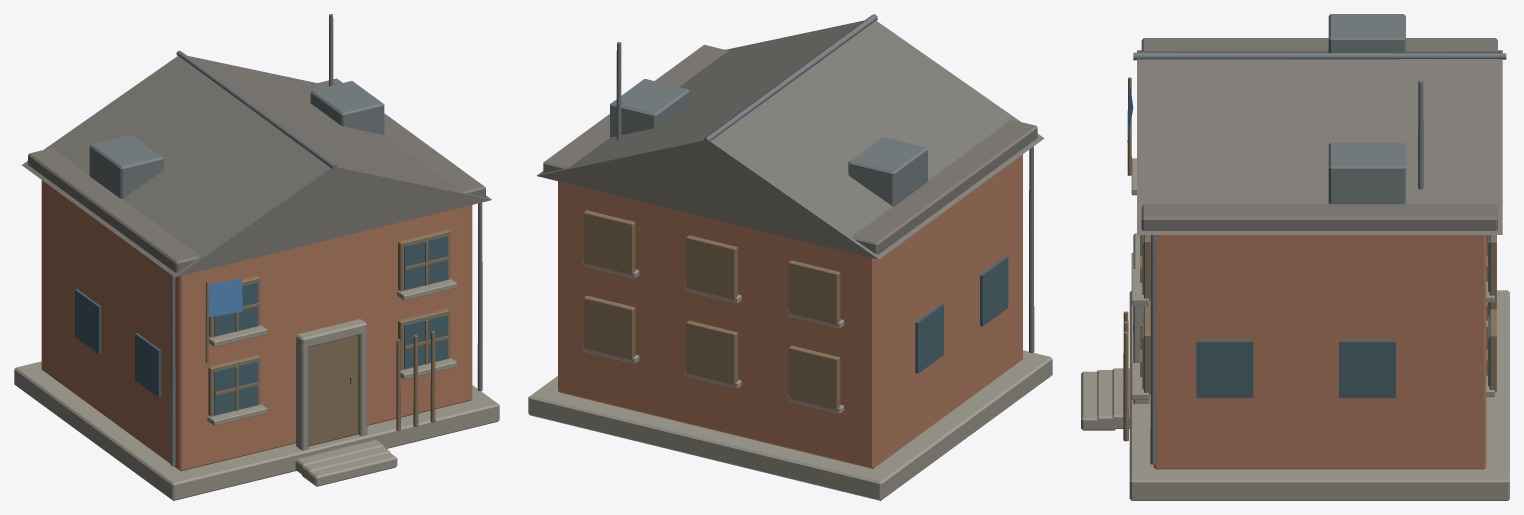
The model's file is bld_caserne_a06.glb.
The picture shows the model from 3 angles, left to right: view 1: azimuth 30°, elevation 25°; view 2: azimuth 150°, elevation 25°; view 3: azimuth 270°, elevation 25°; orthographic projection. The views are drawn at different scales.
Visible parts, largest first — view 1: bld_caserne_a06; view 2: bld_caserne_a06; view 3: bld_caserne_a06.
Part boxes in pixels (x1,y1,x2,y2): bld_caserne_a06: (14,14,499,500); bld_caserne_a06: (528,14,1052,500); bld_caserne_a06: (1081,14,1509,500).
Bounding box in the file's own units: 3.8 × 3.66 × 3.61.
